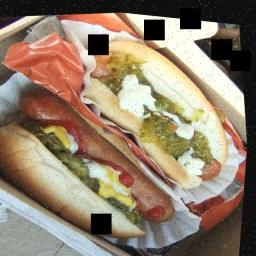hotdog: (15, 85, 68, 141), (66, 124, 115, 183), (114, 154, 156, 214), (133, 178, 177, 230), (59, 102, 92, 168), (95, 138, 135, 181)
